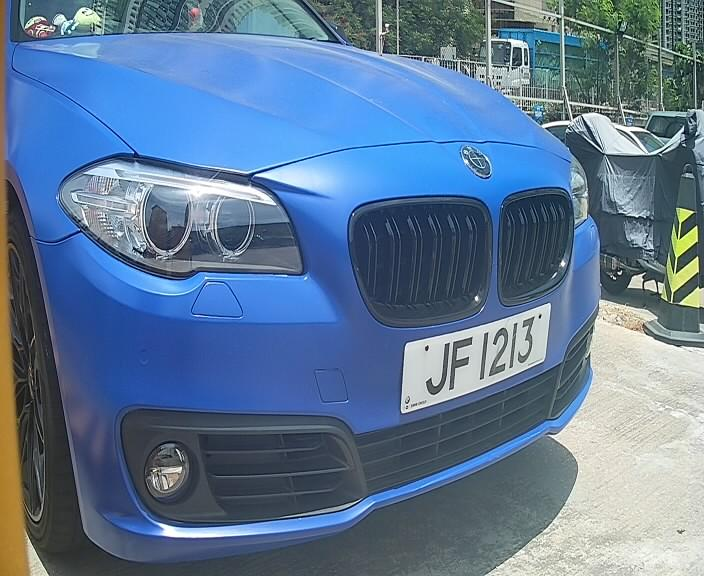License Plate: (400, 307, 541, 415)
